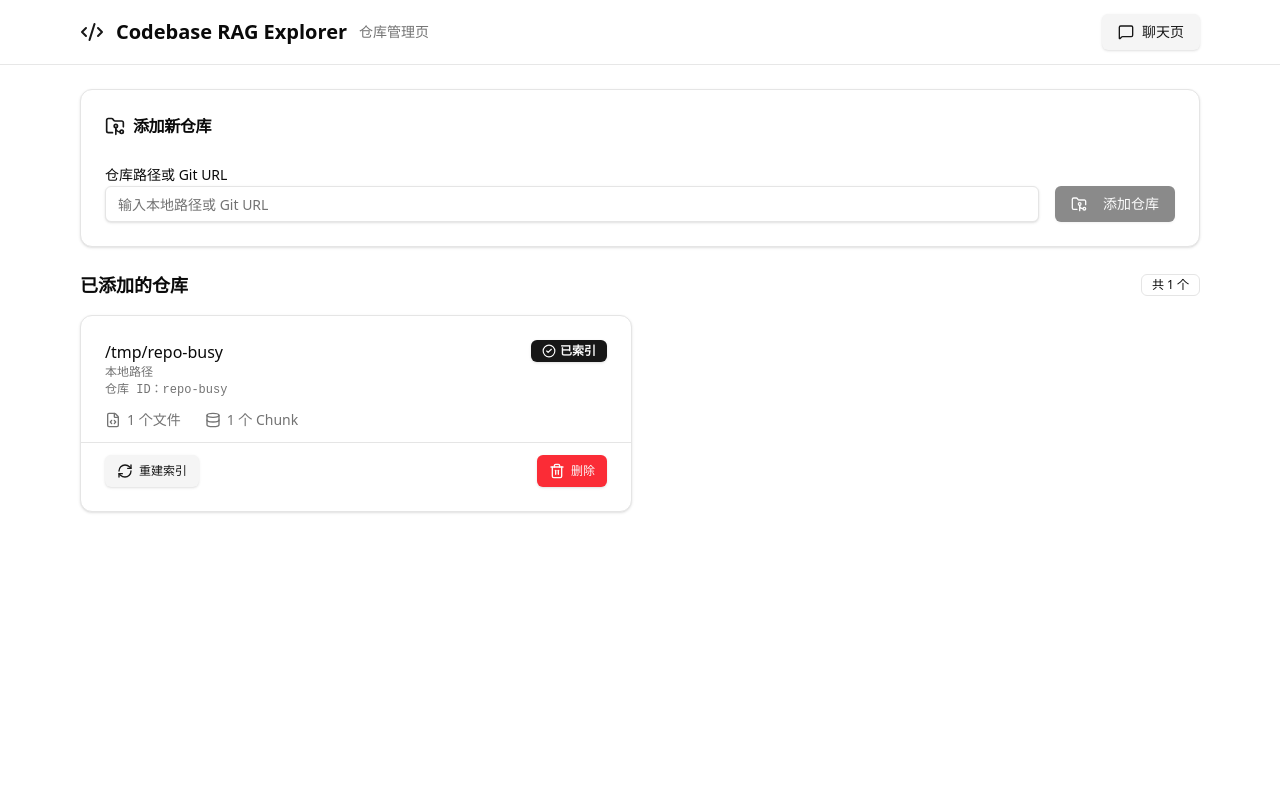
Test: ReposPage › shows explicit message when reload conflicts with in-progress indexing
Expected: the text "/tmp/repo-busy" is shown, [105,341,223,363]
Click the button with aria-label "重建索引，仓库 repo-busy" at (152, 471), box [105,455,199,487]
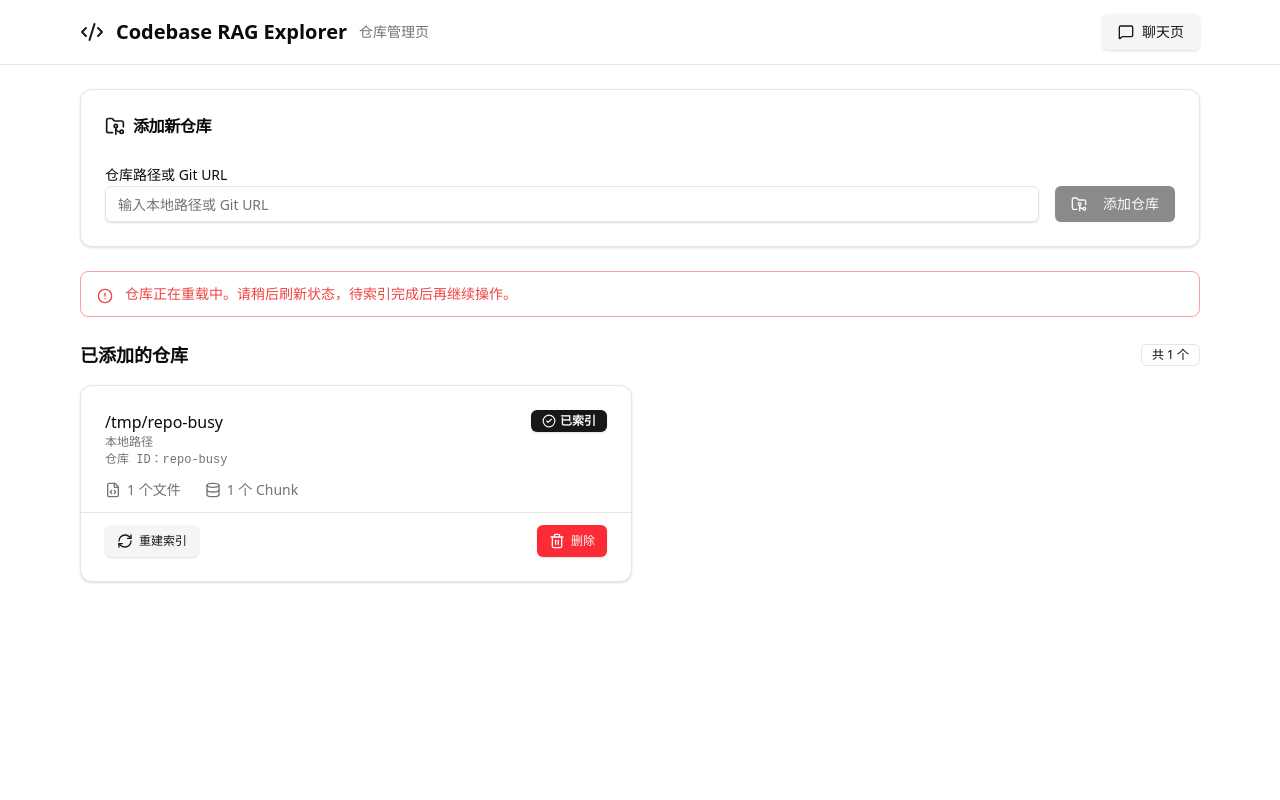
Expected: the text "仓库正在重载中。请稍后刷新状态，待索引完成后再继续操作。" is shown, [125,284,517,303]
